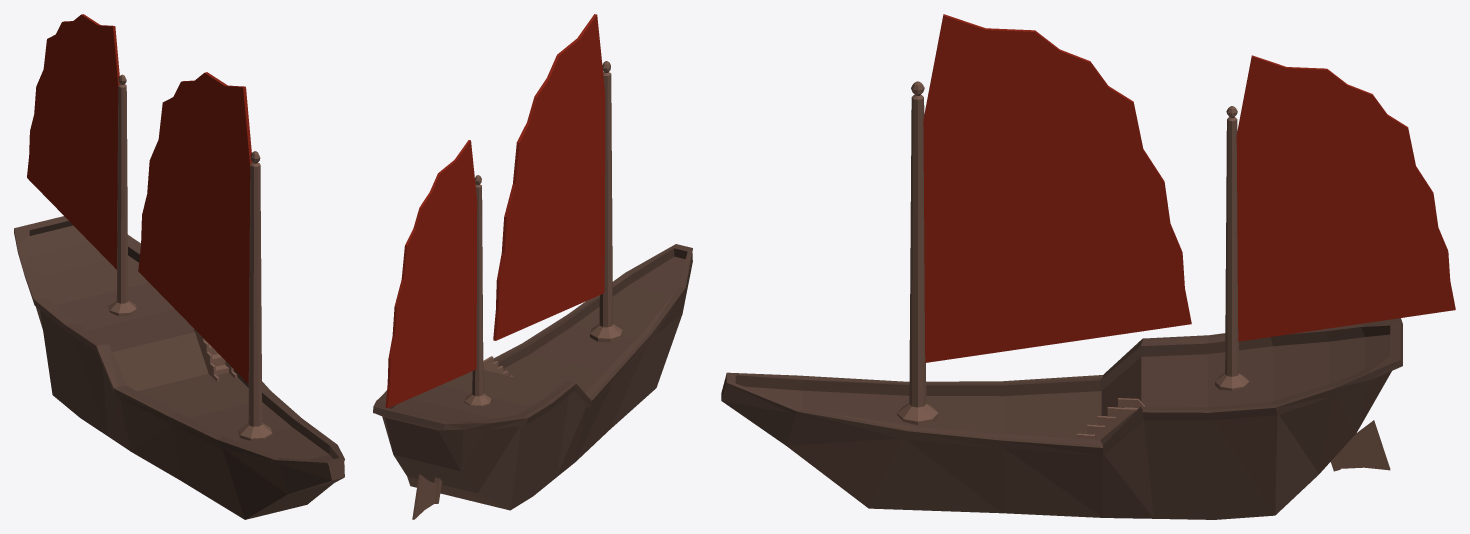
The model's file is TempShip.fbx.
3 views of the same model, side by side, from view 1: azimuth 30°, elevation 25°; view 2: azimuth 150°, elevation 25°; view 3: azimuth 270°, elevation 25° (orthographic). The views are drawn at different scales.
Visible parts, largest first — view 1: Cube; view 2: Cube; view 3: Cube.
Part boxes in pixels (x1=…): Cube: x1=14, y1=14, x2=344, y2=519; Cube: x1=373, y1=14, x2=692, y2=519; Cube: x1=721, y1=14, x2=1455, y2=519.
Size of the model in its own units: 254 by 694 by 969.
